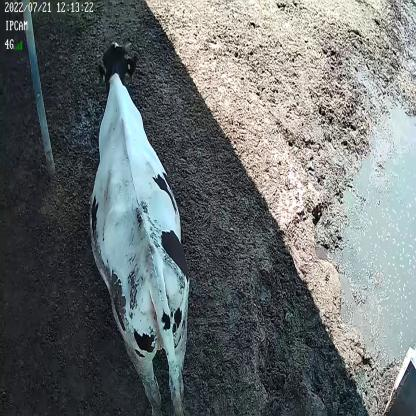cow: (87, 37, 189, 416)
